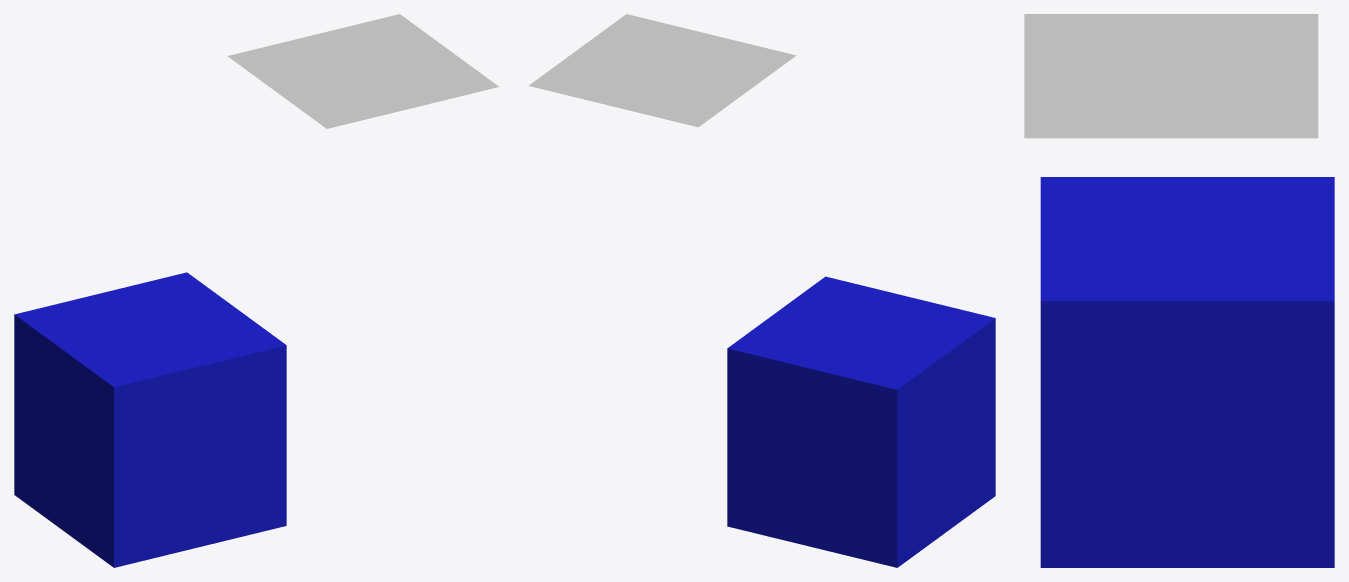
3 renders of one model, left to right at view 1: azimuth 30°, elevation 25°; view 2: azimuth 150°, elevation 25°; view 3: azimuth 270°, elevation 25°, orthographic. The views are drawn at different scales.
Parts seen in each view (by area): view 1: Cube, Plane; view 2: Cube, Plane; view 3: Cube, Plane.
Boxes of the visible parts, <box> form: Cube: <box>14,272,286,567</box>; Plane: <box>227,14,498,128</box>; Cube: <box>727,276,995,567</box>; Plane: <box>528,14,796,127</box>; Cube: <box>1040,177,1334,567</box>; Plane: <box>1024,14,1318,138</box>.
Bounding box in the file's own units: 4.4 × 2.11 × 4.34.
